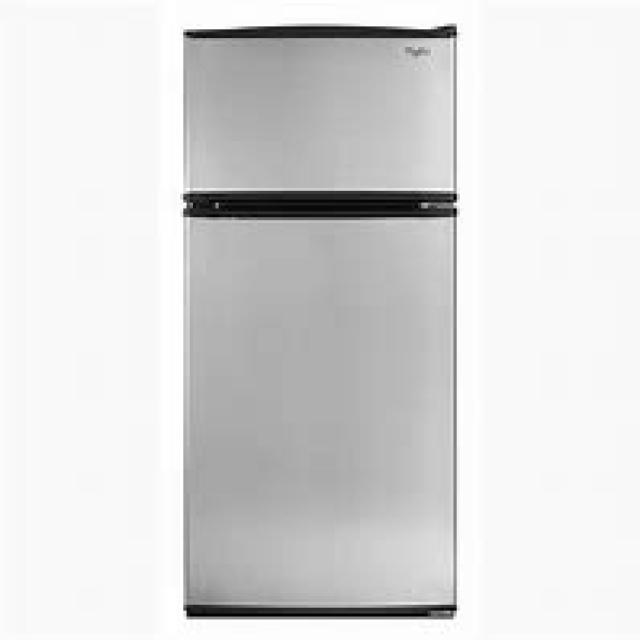fridge: (180, 24, 457, 616)
